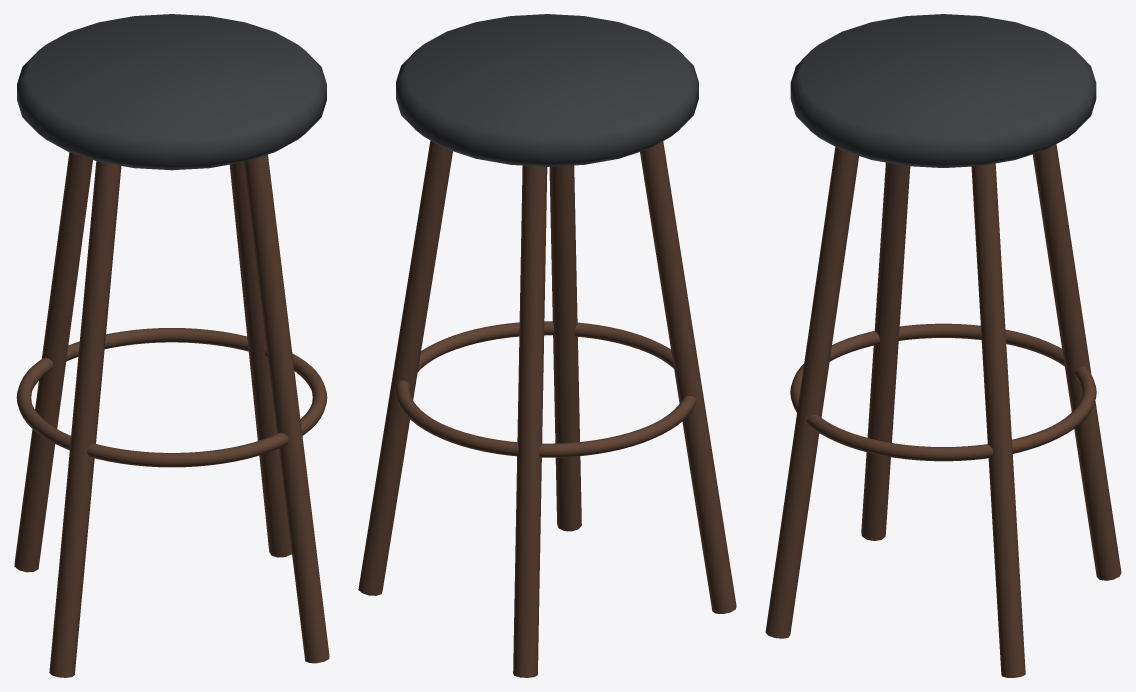
Rendered from i_stool_7.glb.
The picture shows the model from 3 angles, left to right: view 1: azimuth 30°, elevation 25°; view 2: azimuth 150°, elevation 25°; view 3: azimuth 270°, elevation 25°; orthographic projection. The views are drawn at different scales.
Parts seen in each view (by area): view 1: o.004, o.002, o.003, o.001, o.005, o; view 2: o.004, o.001, o.002, o, o.003, o.005; view 3: o.004, o, o.003, o.001, o.002, o.005.
Boxes of the visible parts, <box> form: o.004: <box>17,14,326,170</box>; o.002: <box>49,161,121,677</box>; o.003: <box>244,154,329,663</box>; o.001: <box>14,152,92,572</box>; o.005: <box>16,328,327,467</box>; o: <box>229,162,291,557</box>; o.004: <box>396,14,698,166</box>; o.001: <box>513,165,547,677</box>; o.002: <box>640,141,736,613</box>; o: <box>358,140,452,595</box>; o.003: <box>549,165,581,531</box>; o.005: <box>395,321,696,457</box>; o.004: <box>790,14,1096,167</box>; o: <box>971,163,1025,677</box>; o.003: <box>765,147,858,638</box>; o.001: <box>1032,144,1121,580</box>; o.002: <box>861,162,910,540</box>; o.005: <box>790,323,1096,461</box>.
Bounding box in the file's own units: 0.3961 × 0.6519 × 0.3961.
